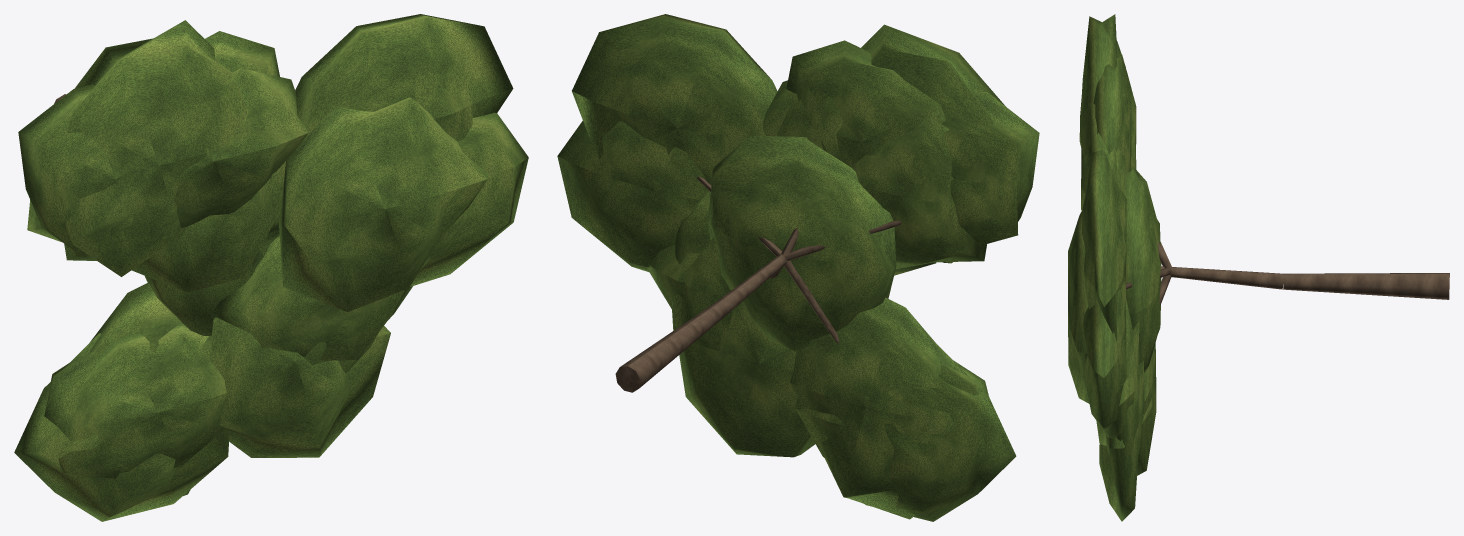
The model's file is acacia_1.obj.
3 renders of one model, left to right at view 1: azimuth 30°, elevation 25°; view 2: azimuth 150°, elevation 25°; view 3: azimuth 270°, elevation 25°, orthographic. The views are drawn at different scales.
Bounding box in the file's own units: 12.86 × 12.03 × 9.39.
2 materials, 2 textured.
